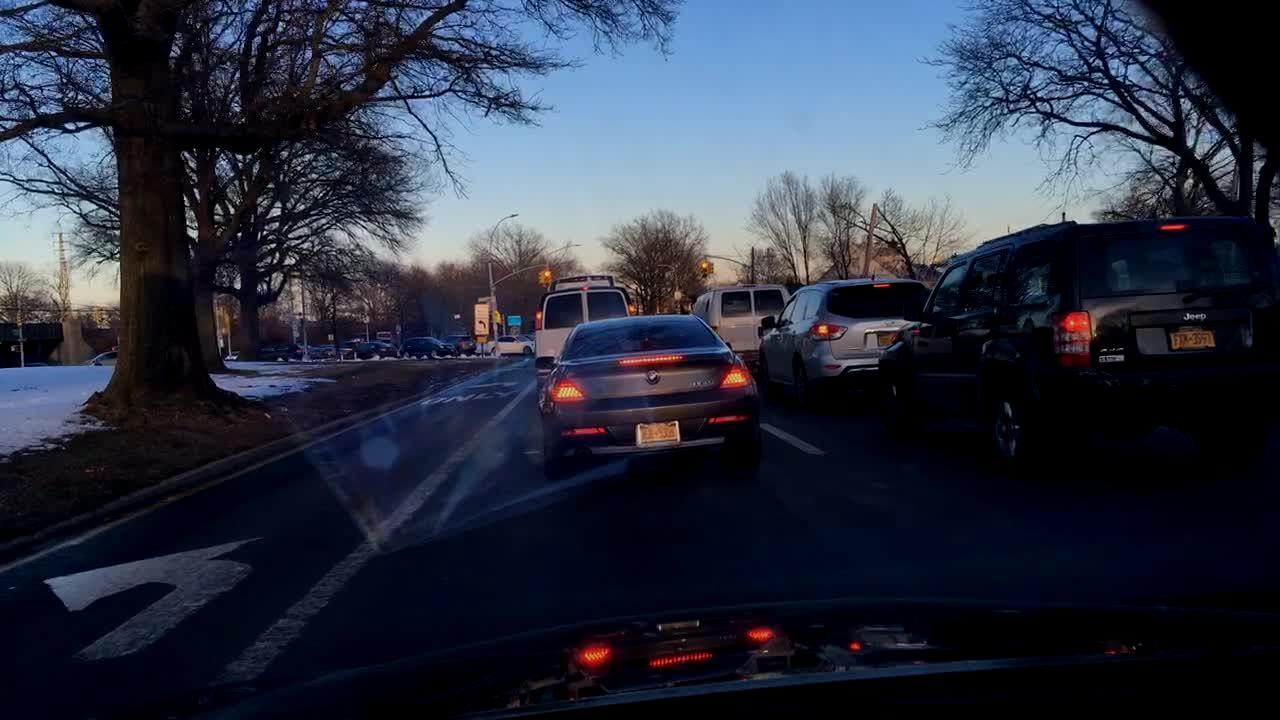jeep: (1177, 307, 1215, 326)
